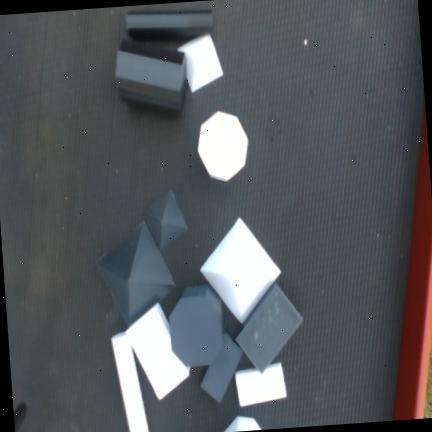Cilindro: (110, 330, 149, 432), (125, 8, 213, 38)
Paralelepipedo: (234, 281, 304, 374), (125, 301, 190, 401), (200, 331, 243, 403), (235, 362, 286, 407)
Piramide: (199, 216, 282, 325), (95, 219, 176, 326), (177, 30, 223, 92), (142, 188, 188, 250)
Prisma_hexagonal: (115, 39, 186, 112), (168, 283, 223, 367), (197, 110, 248, 182), (224, 415, 261, 431)
